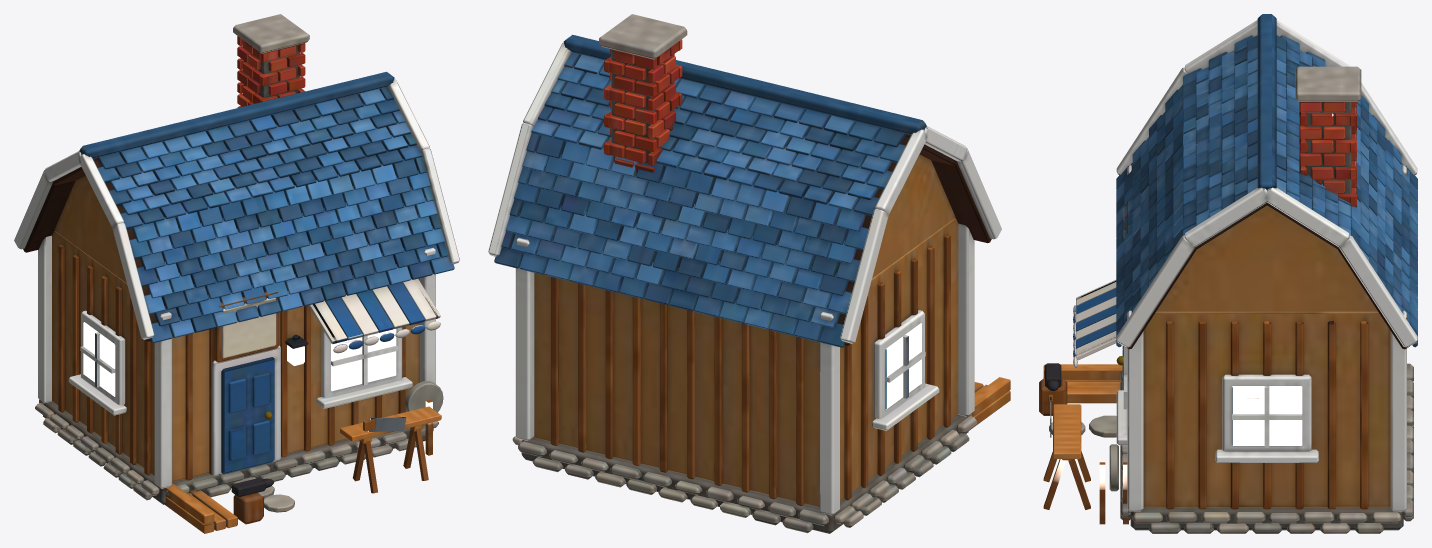
The model's file is workshop.glb.
The picture shows the model from 3 angles, left to right: view 1: azimuth 30°, elevation 25°; view 2: azimuth 150°, elevation 25°; view 3: azimuth 270°, elevation 25°; orthographic projection. The views are drawn at different scales.
Parts seen in each view (by area): view 1: workshop, spinZ_stone; view 2: workshop; view 3: workshop, spinZ_stone.
Part boxes in pixels (x1=…): workshop: x1=14, y1=14, x2=459, y2=533; spinZ_stone: x1=405, y1=381, x2=443, y2=412; workshop: x1=488, y1=14, x2=1010, y2=533; workshop: x1=1039, y1=14, x2=1417, y2=533; spinZ_stone: x1=1109, y1=444, x2=1118, y2=491.
Bounding box in the file's own units: 1.74 × 1.94 × 1.61.
1 material, 1 textured.
